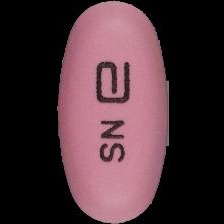0074-6215: (0, 0, 224, 224)
